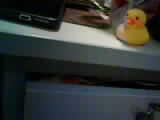duck: (120, 5, 154, 43)
